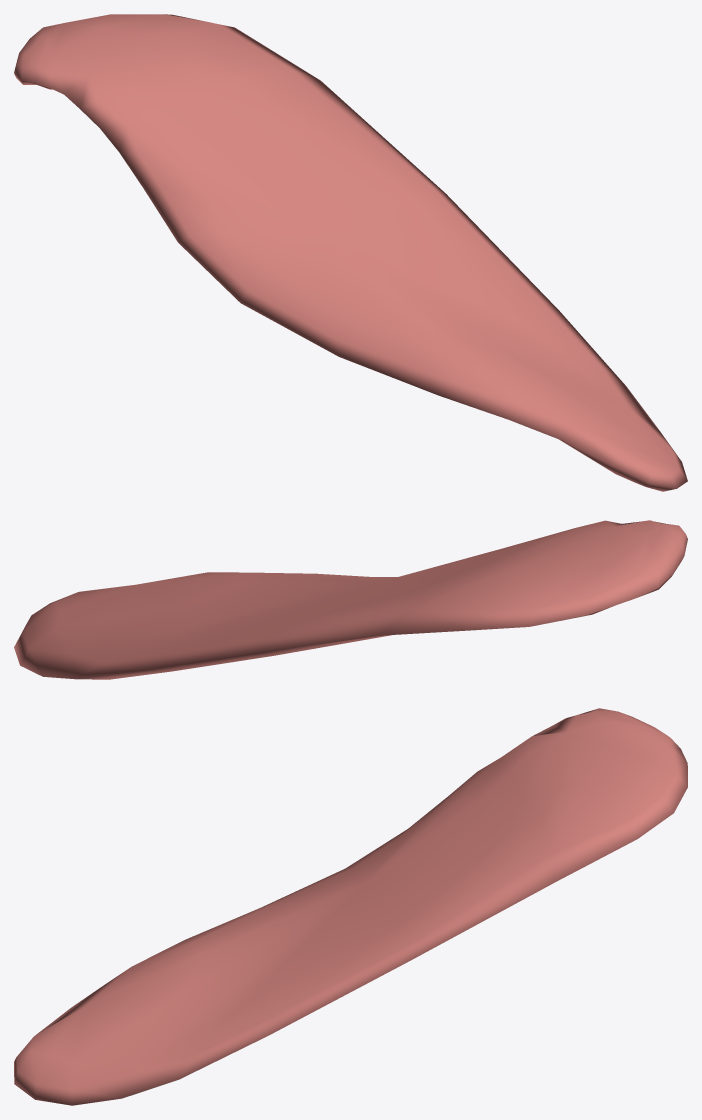
3 renders of one model, top to bottom at view 1: azimuth 30°, elevation 25°; view 2: azimuth 210°, elevation 25°; view 3: azimuth 270°, elevation 25°, orthographic. The views are drawn at different scales.
Visible parts, largest first — view 1: ZA_3a26e62e9b3e94d6; view 2: ZA_3a26e62e9b3e94d6; view 3: ZA_3a26e62e9b3e94d6.
Part boxes in pixels (<box>): ZA_3a26e62e9b3e94d6: <box>14,14,687,491</box>; ZA_3a26e62e9b3e94d6: <box>14,520,687,679</box>; ZA_3a26e62e9b3e94d6: <box>14,708,687,1105</box>.
Size of the model in its own units: 0.0076 by 0.00528 by 0.0132.
